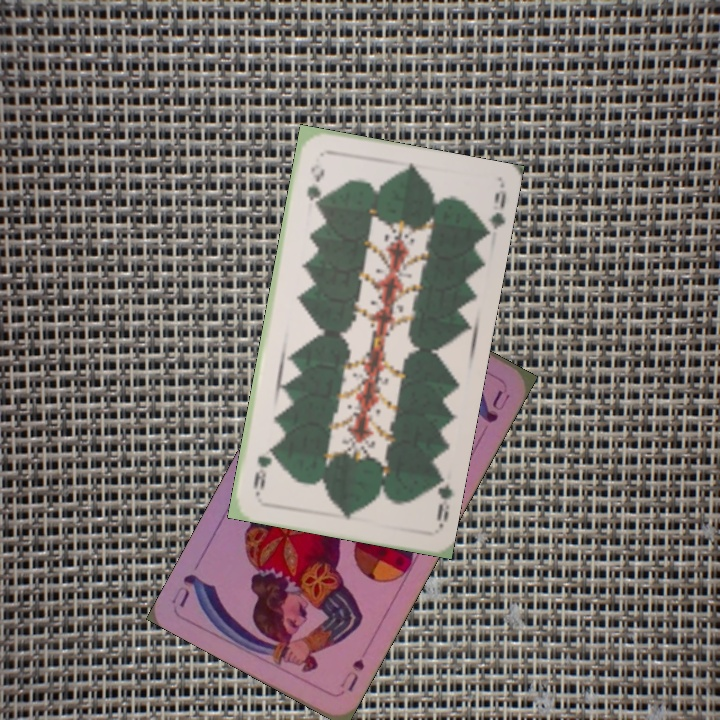G9: (428, 470, 456, 531), (302, 159, 326, 209)
SU: (336, 654, 367, 695)
